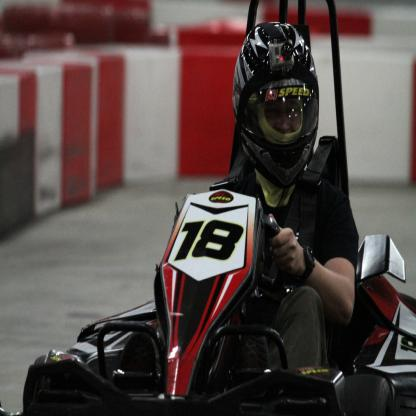Helmet: (231, 20, 320, 190)
